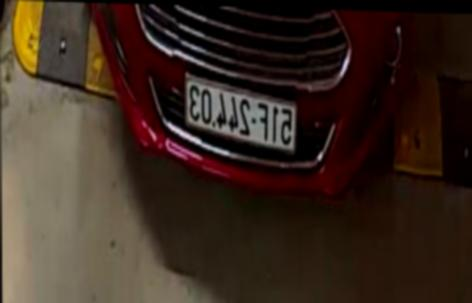License_Plate: (185, 73, 303, 151)
